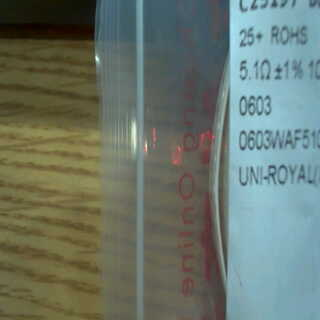5.1R: (236, 51, 274, 86)
